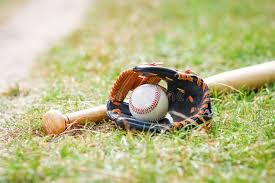baseball bat: (38, 57, 275, 139)
